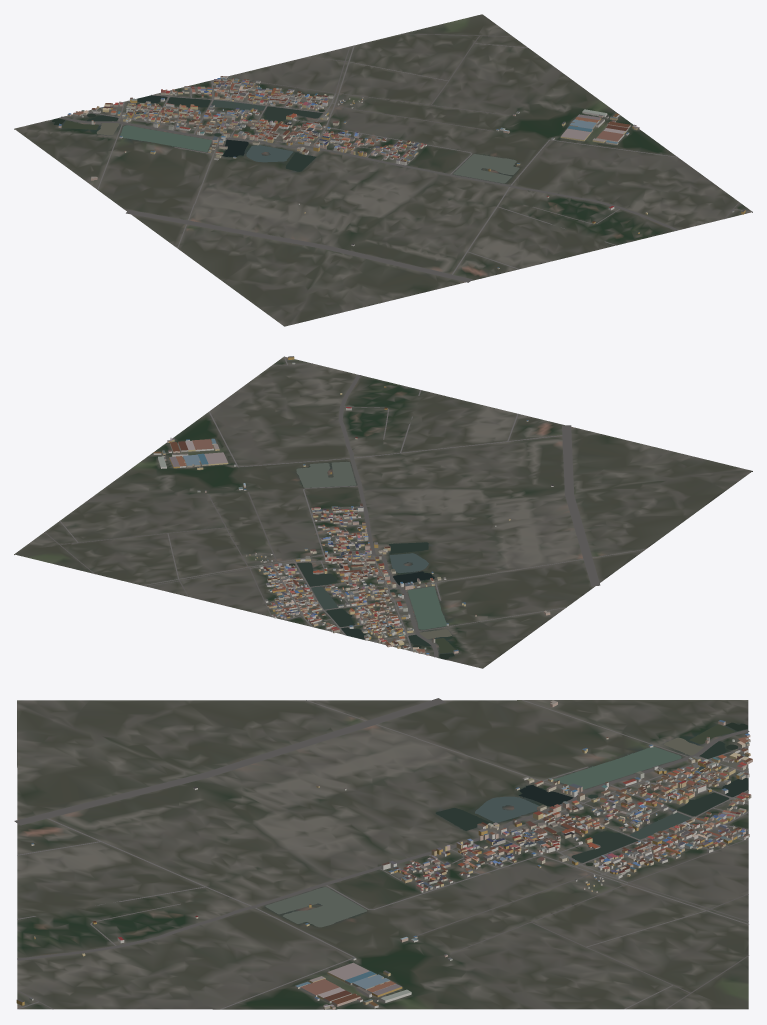
The picture shows the model from 3 angles, top to bottom: view 1: azimuth 30°, elevation 25°; view 2: azimuth 150°, elevation 25°; view 3: azimuth 270°, elevation 25°; orthographic projection. The views are drawn at different scales.
Visible parts, largest first — view 1: ground, buildings, roads, water; view 2: ground, buildings, roads, water; view 3: ground, buildings, roads, water.
Part boxes in pixels (left/top/right/bottom): ground: left=14, top=14, right=752, bottom=326; buildings: left=58, top=76, right=745, bottom=269; roads: left=60, top=33, right=752, bottom=282; water: left=52, top=95, right=519, bottom=183; ground: left=14, top=357, right=752, bottom=668; buildings: left=153, top=356, right=553, bottom=655; roads: left=44, top=356, right=645, bottom=657; water: left=289, top=461, right=455, bottom=659; ground: left=17, top=700, right=748, bottom=1009; buildings: left=16, top=700, right=752, bottom=1009; roads: left=14, top=698, right=749, bottom=1009; water: left=265, top=722, right=747, bottom=927.
Size of the model in its own units: 1414 by 14.08 by 1416.
